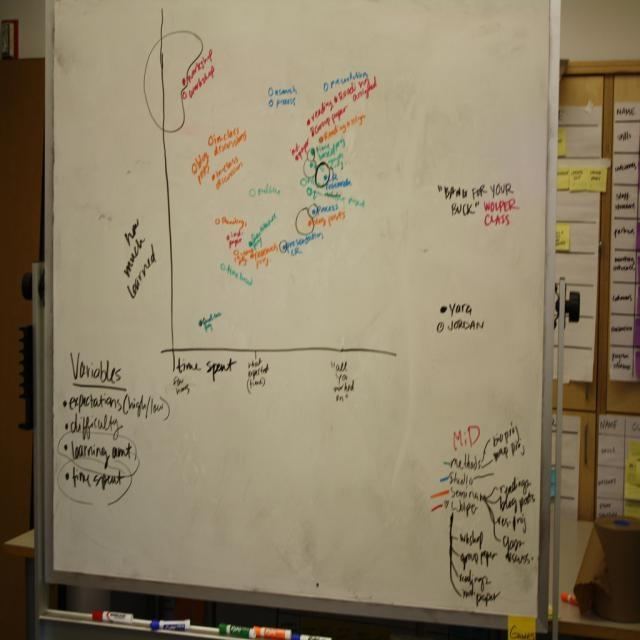Whiteboard: (43, 0, 562, 632)
